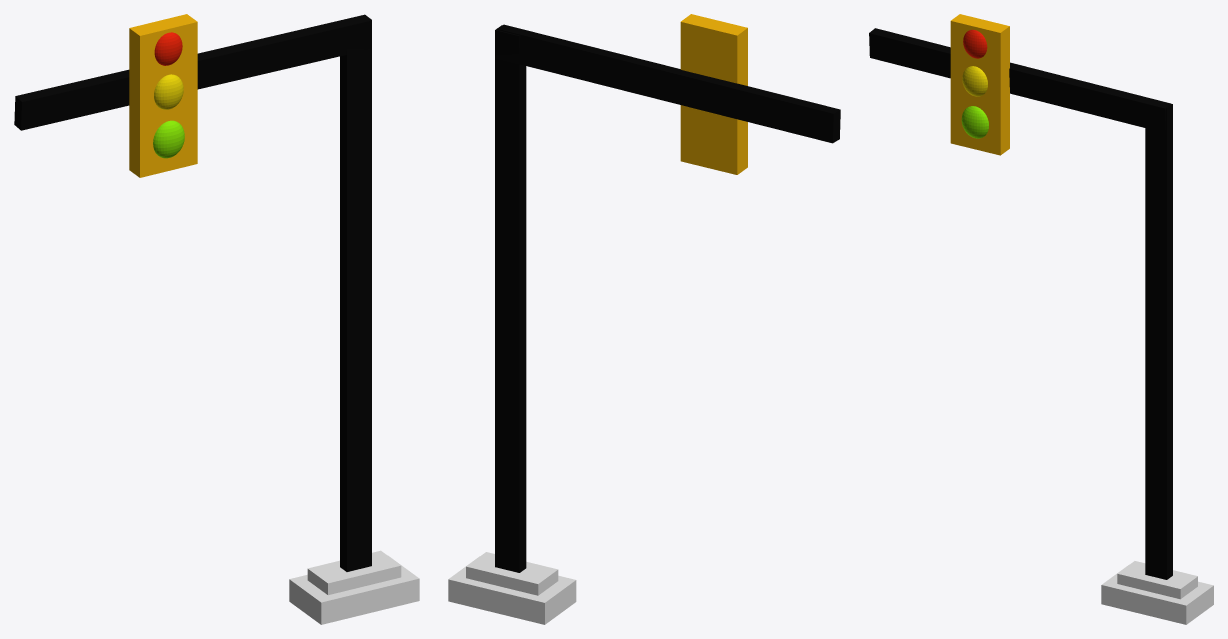
Rendered from trafficLightSingle.fbx.
3 views of the same model, side by side, from view 1: azimuth 30°, elevation 25°; view 2: azimuth 150°, elevation 25°; view 3: azimuth 330°, elevation 25° (orthographic). The views are drawn at different scales.
Parts seen in each view (by area): view 1: Cube.002, Cube.003, Cube.005, Cube, Cube.001, Sphere.005, Sphere.004, Sphere.003; view 2: Cube.002, Cube.003, Cube.005, Cube, Cube.001; view 3: Cube.002, Cube.003, Cube.005, Cube, Cube.001, Sphere.005, Sphere.004, Sphere.003.
Part boxes in pixels (<box>): Cube.002: <box>340,16,371,571</box>; Cube.003: <box>14,14,371,130</box>; Cube.005: <box>129,14,197,177</box>; Cube: <box>289,555,419,624</box>; Cube.001: <box>307,550,401,595</box>; Sphere.005: <box>153,120,184,158</box>; Sphere.004: <box>154,74,183,109</box>; Sphere.003: <box>154,32,182,65</box>; Cube.002: <box>495,25,526,572</box>; Cube.003: <box>495,24,840,143</box>; Cube.005: <box>680,14,747,174</box>; Cube: <box>448,556,576,624</box>; Cube.001: <box>466,552,558,595</box>; Cube.002: <box>1145,104,1172,579</box>; Cube.003: <box>869,28,1171,133</box>; Cube.005: <box>950,14,1009,155</box>; Cube: <box>1101,565,1213,624</box>; Cube.001: <box>1117,561,1197,599</box>; Sphere.005: <box>961,106,988,138</box>; Sphere.004: <box>962,66,987,96</box>; Sphere.003: <box>963,29,987,58</box>.
Size of the model in its own units: 997 by 1568 by 151.
